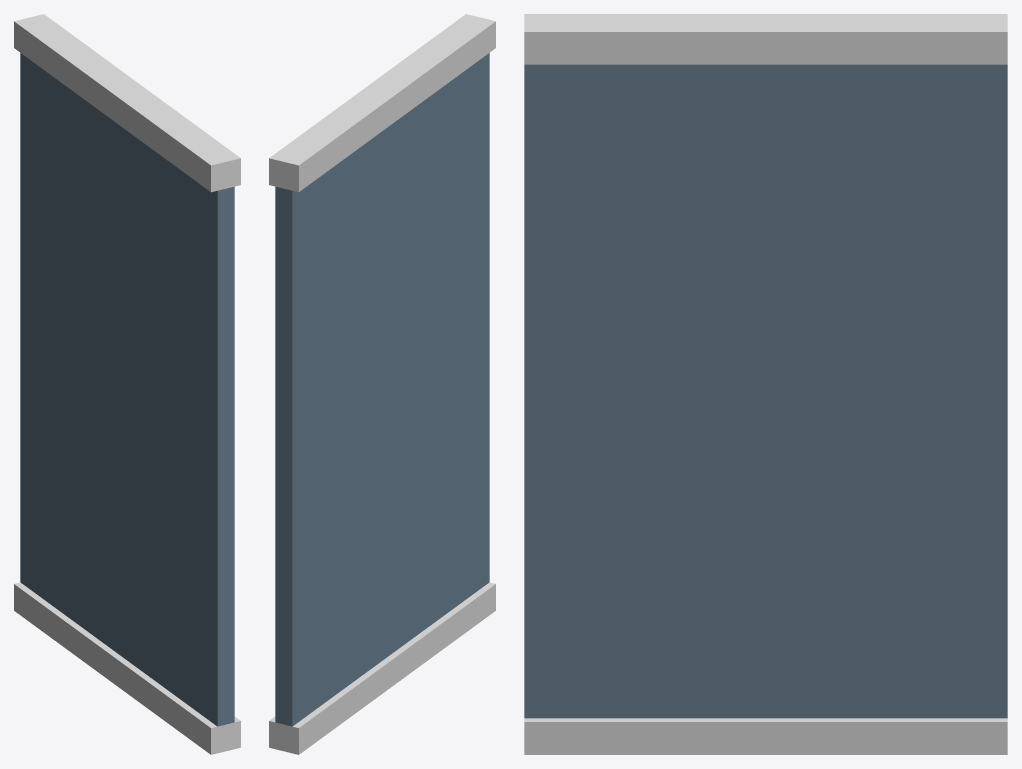
File: Cubicle 1 Middle Small.fbx
The picture shows the model from 3 angles, left to right: view 1: azimuth 30°, elevation 25°; view 2: azimuth 150°, elevation 25°; view 3: azimuth 270°, elevation 25°; orthographic projection. The views are drawn at different scales.
Visible parts, largest first — view 1: Middle S; view 2: Middle S; view 3: Middle S.
Boxes of the visible parts, left/top/right/bottom form: Middle S: left=14, top=14, right=240, bottom=754; Middle S: left=269, top=14, right=495, bottom=754; Middle S: left=524, top=14, right=1007, bottom=754.
Size of the model in its own units: 8.75 by 165 by 100.
